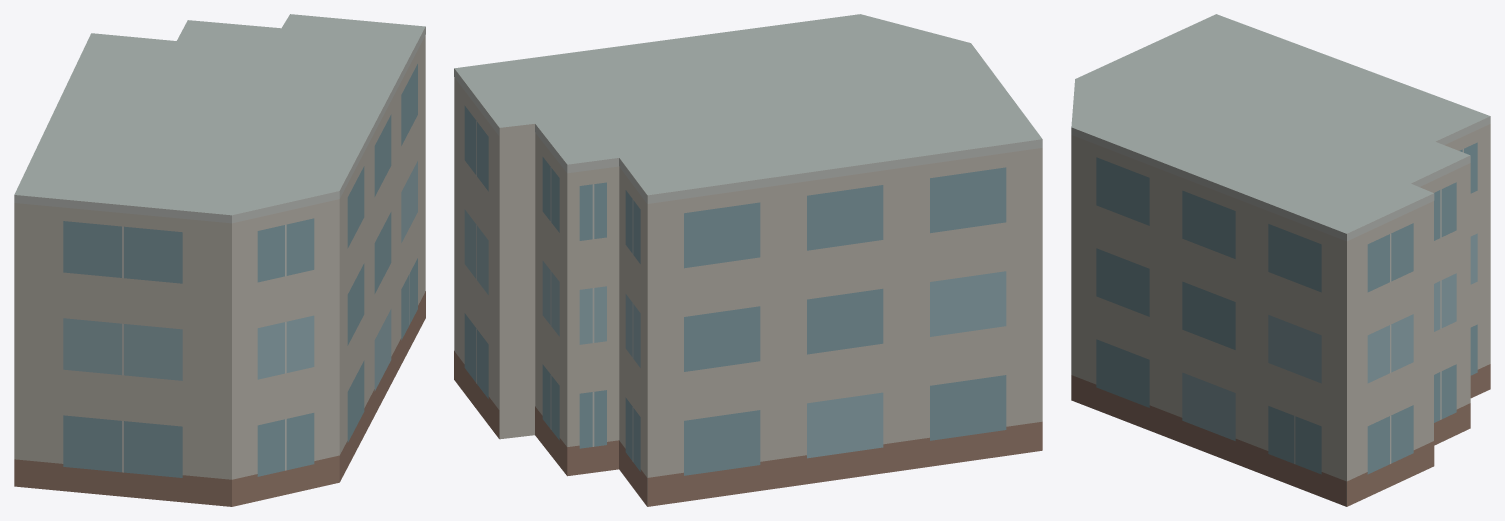
The model's file is survey-upis-32510419.glb.
3 views of the same model, side by side, from view 1: azimuth 30°, elevation 25°; view 2: azimuth 150°, elevation 25°; view 3: azimuth 270°, elevation 25° (orthographic). The views are drawn at different scales.
Parts seen in each view (by area): view 1: survey-upis-32510419.tmp; view 2: survey-upis-32510419.tmp; view 3: survey-upis-32510419.tmp.
Part boxes in pixels (box(x1,y1,x2,y2)): survey-upis-32510419.tmp: box(14, 14, 425, 506); survey-upis-32510419.tmp: box(454, 14, 1042, 506); survey-upis-32510419.tmp: box(1071, 14, 1490, 506).
Size of the model in its own units: 15.21 by 8.8 by 12.26.
